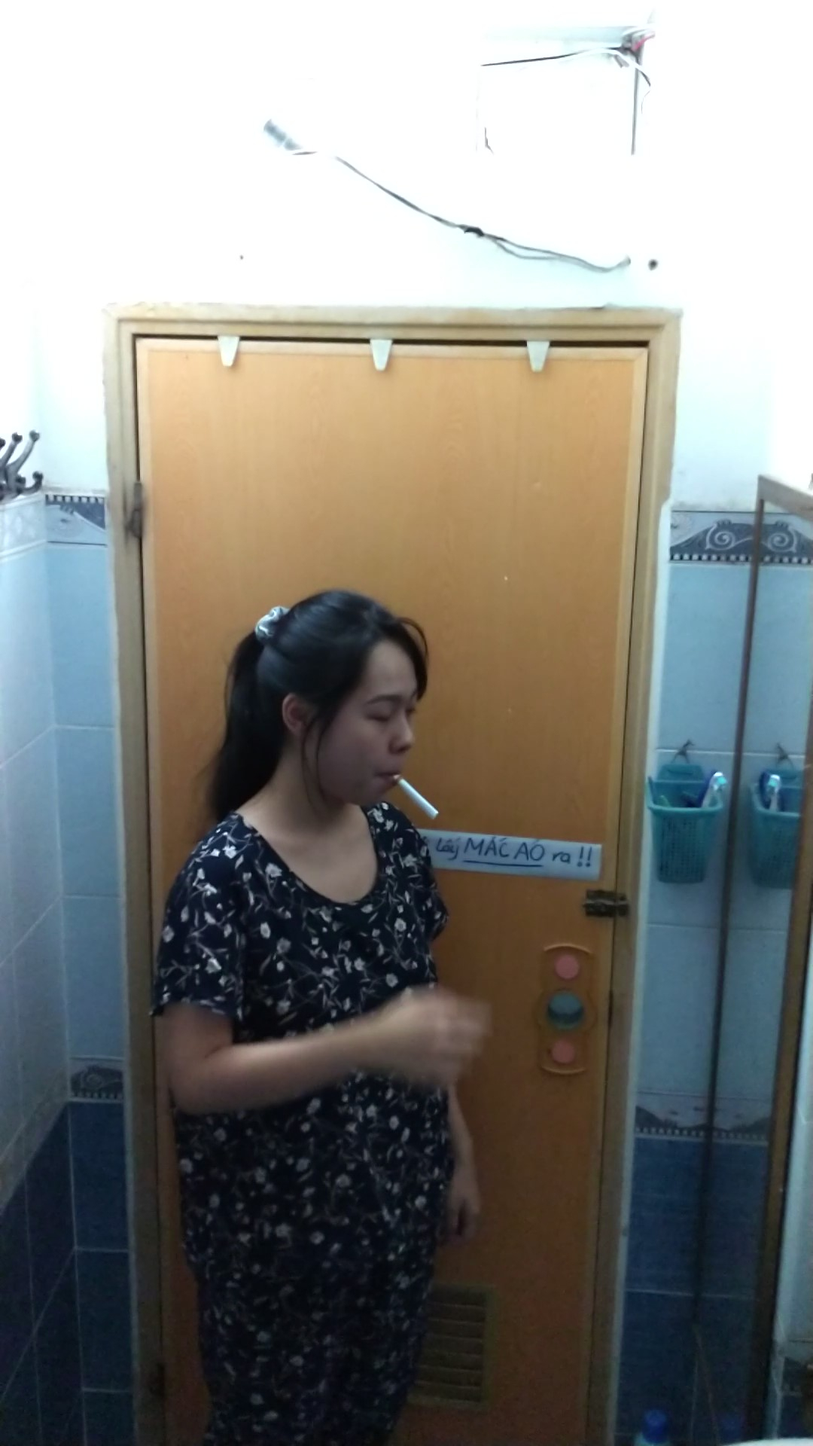cigarette: (391, 773, 441, 825)
person: (142, 581, 489, 1446)
